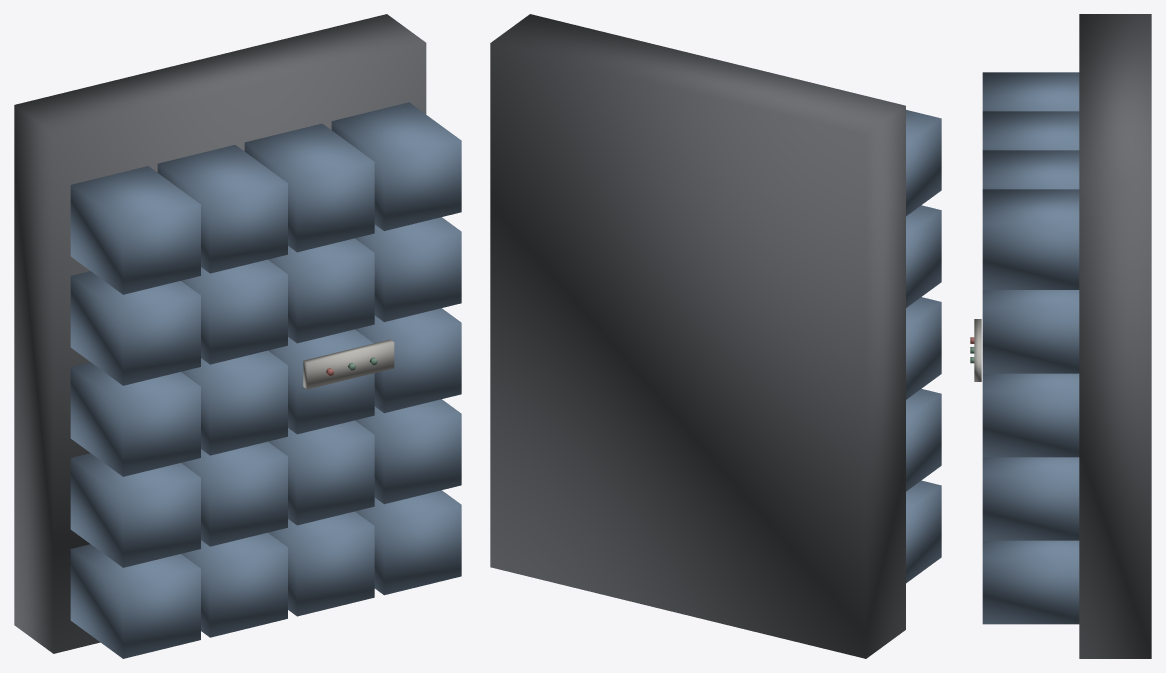
The model's file is parts_bin_rack__deep.glb.
The picture shows the model from 3 angles, left to right: view 1: azimuth 30°, elevation 25°; view 2: azimuth 150°, elevation 25°; view 3: azimuth 270°, elevation 25°; orthographic projection. The views are drawn at different scales.
Visible parts, largest first — view 1: world; view 2: world; view 3: world.
Boxes of the visible parts, bbox=[...] form: world: bbox=[14, 14, 461, 658]; world: bbox=[490, 14, 941, 658]; world: bbox=[970, 14, 1151, 658].
Bounding box in the file's own units: 1.2 × 1.6 × 0.5502.
